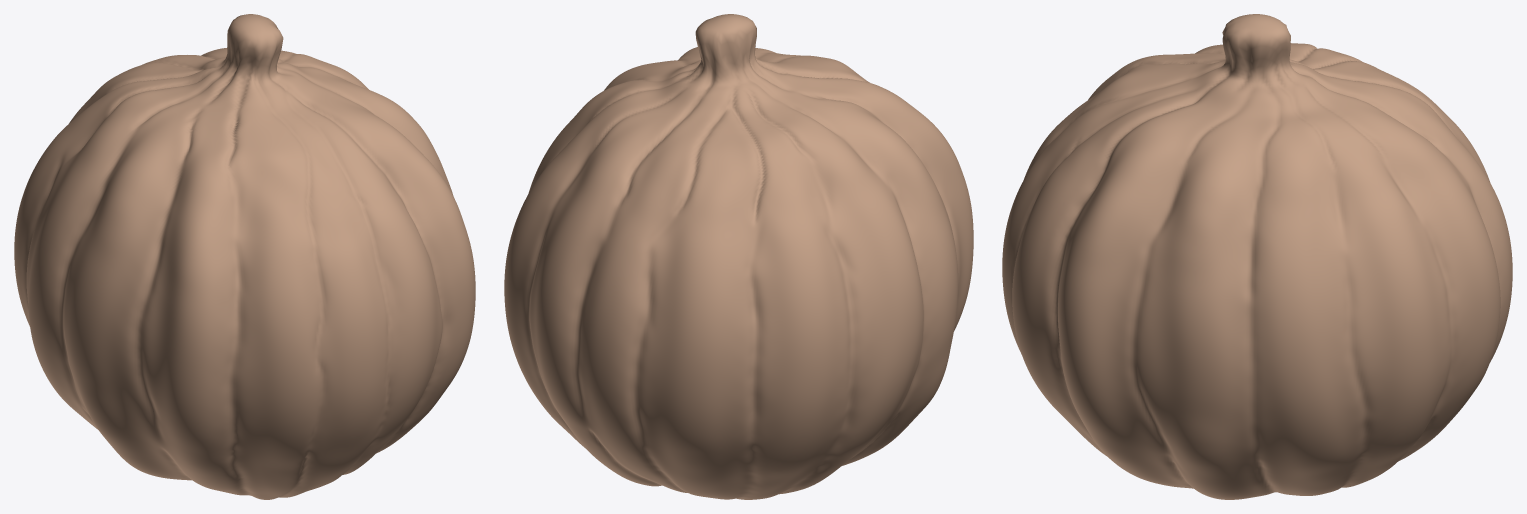
The model's file is _umpkin.fbx.
3 views of the same model, side by side, from view 1: azimuth 30°, elevation 25°; view 2: azimuth 150°, elevation 25°; view 3: azimuth 270°, elevation 25° (orthographic). The views are drawn at different scales.
Visible parts, largest first — view 1: sphere; view 2: sphere; view 3: sphere.
Boxes of the visible parts, box(x1,y1,x2,y2) form: sphere: box(14, 14, 475, 499); sphere: box(504, 14, 973, 499); sphere: box(1002, 14, 1512, 499).
Size of the model in its own units: 213 by 237 by 237.
